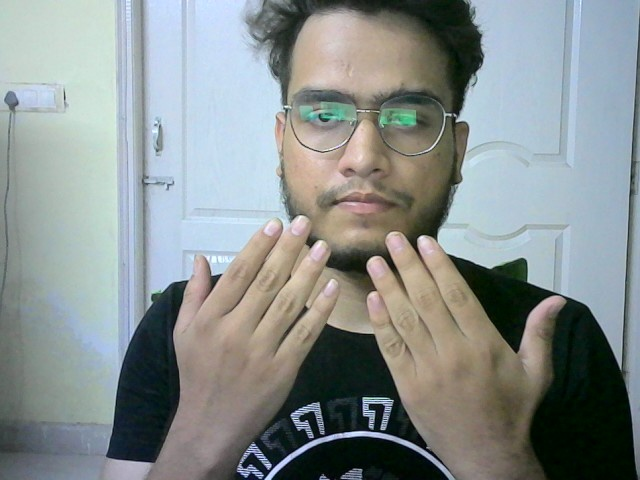Thank You: (165, 214, 568, 435)
